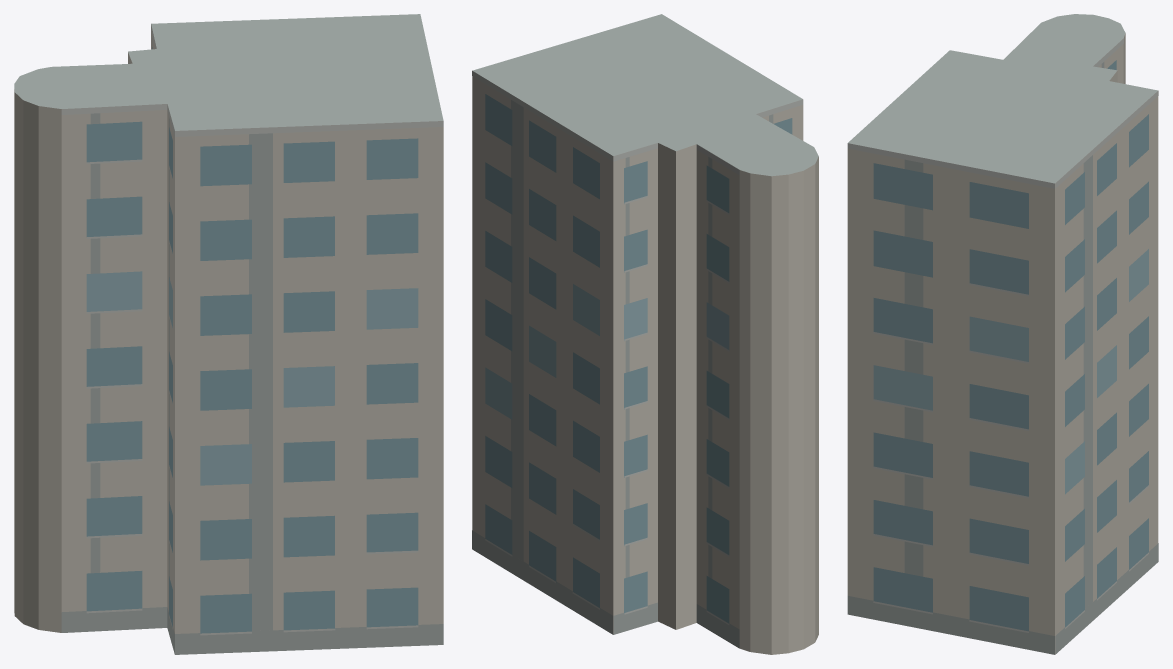
The model's file is survey-upis-32528316.glb.
3 renders of one model, left to right at view 1: azimuth 30°, elevation 25°; view 2: azimuth 150°, elevation 25°; view 3: azimuth 270°, elevation 25°, orthographic. The views are drawn at different scales.
Visible parts, largest first — view 1: survey-upis-32528316.tmp; view 2: survey-upis-32528316.tmp; view 3: survey-upis-32528316.tmp.
Boxes of the visible parts, x1=… form: survey-upis-32528316.tmp: x1=14, y1=14, x2=443, y2=654; survey-upis-32528316.tmp: x1=472, y1=14, x2=818, y2=654; survey-upis-32528316.tmp: x1=847, y1=14, x2=1158, y2=654.
Bounding box in the file's own units: 16.47 × 21.35 × 12.77.
